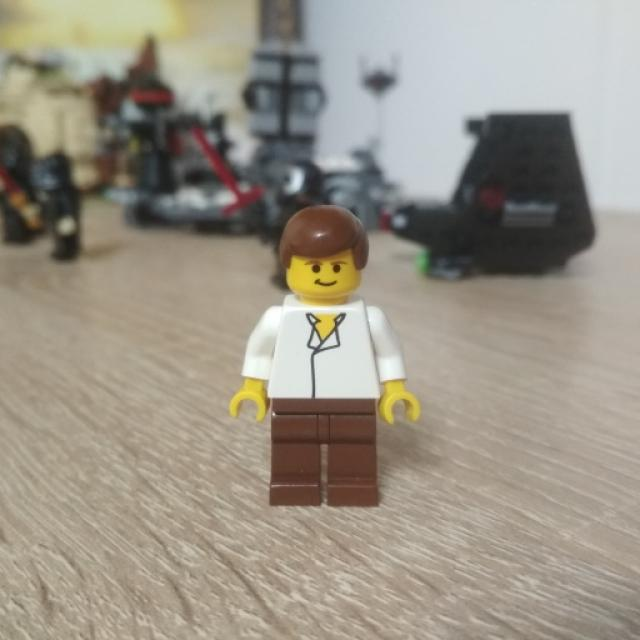Lego-Minifigures: (184, 185, 436, 533)
